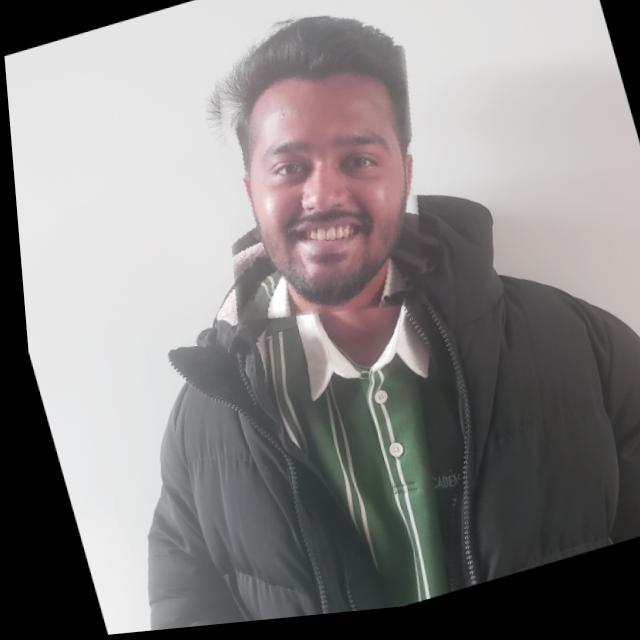happy: (171, 0, 462, 354)
